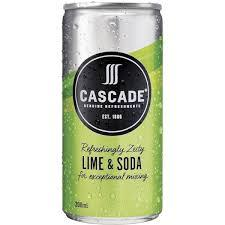Aluminum can: (56, 2, 172, 225)
